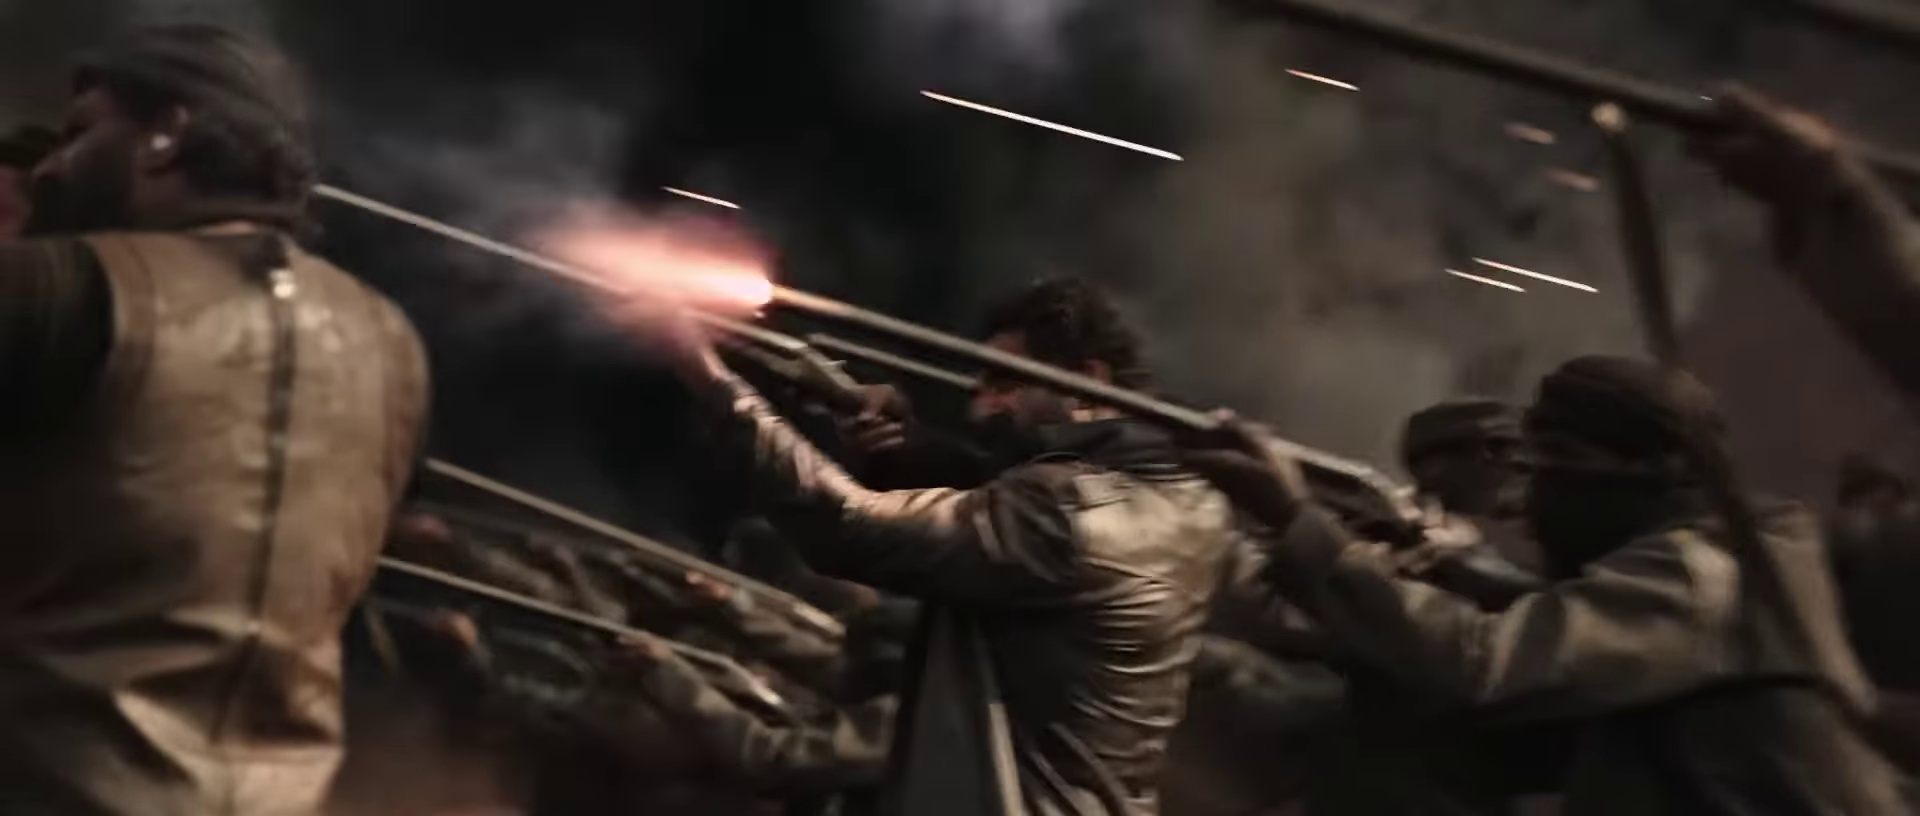gun: (752, 263, 1550, 605), (309, 173, 987, 478), (409, 450, 866, 667), (332, 543, 804, 730)
p_w_gun: (318, 174, 1251, 816), (757, 266, 1836, 816)
p_wo_gun_not_carrying_normal_pose: (0, 0, 437, 816)
